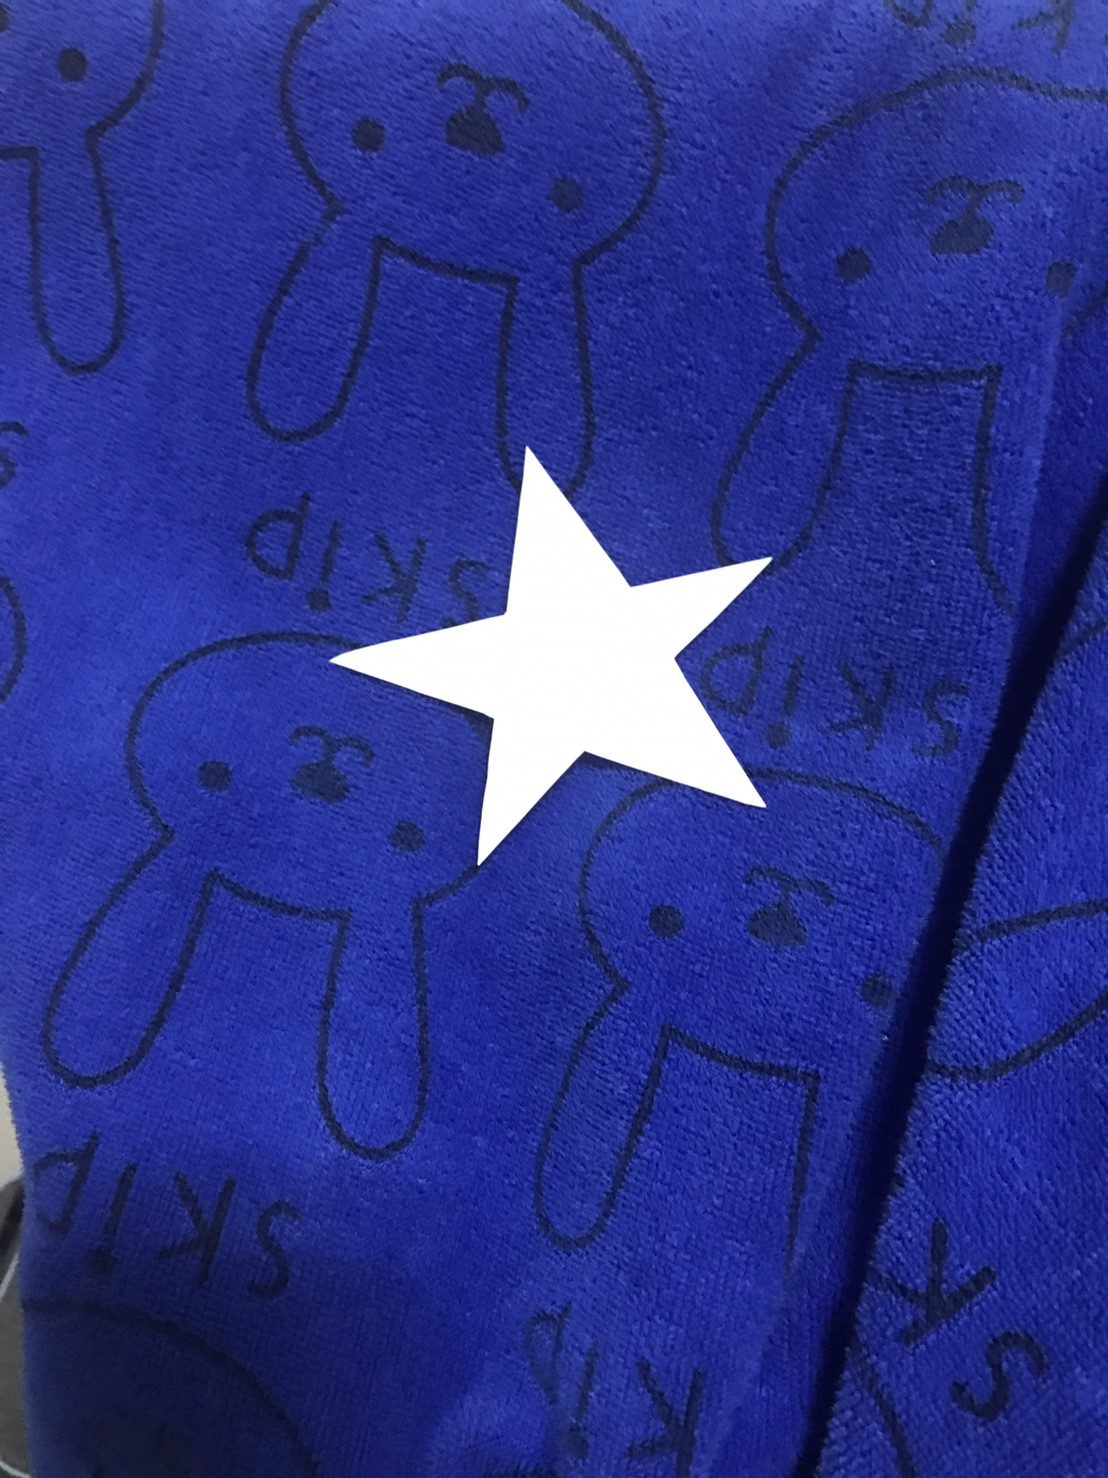star: (291, 422, 841, 874)
